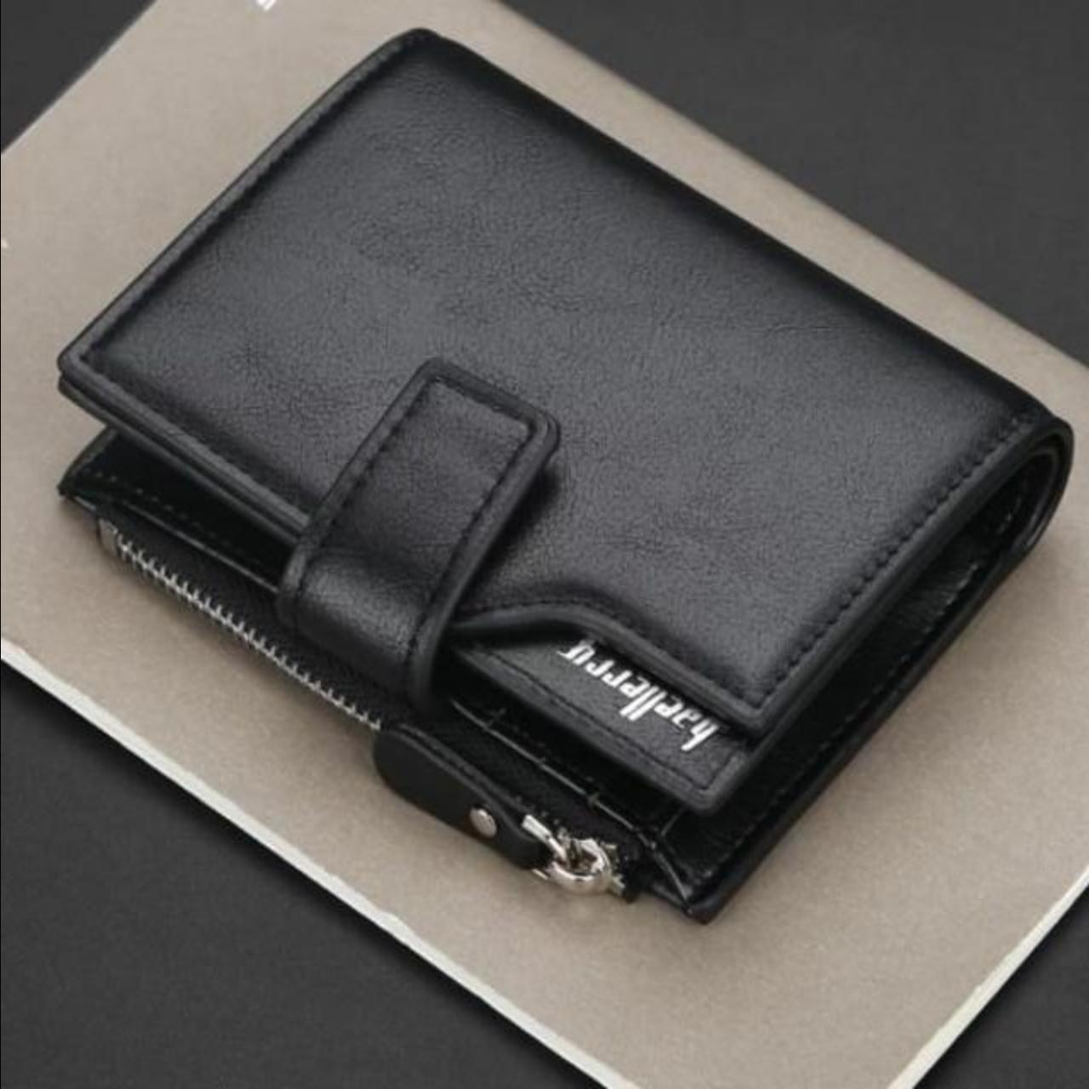wallet: (36, 34, 1070, 978)
